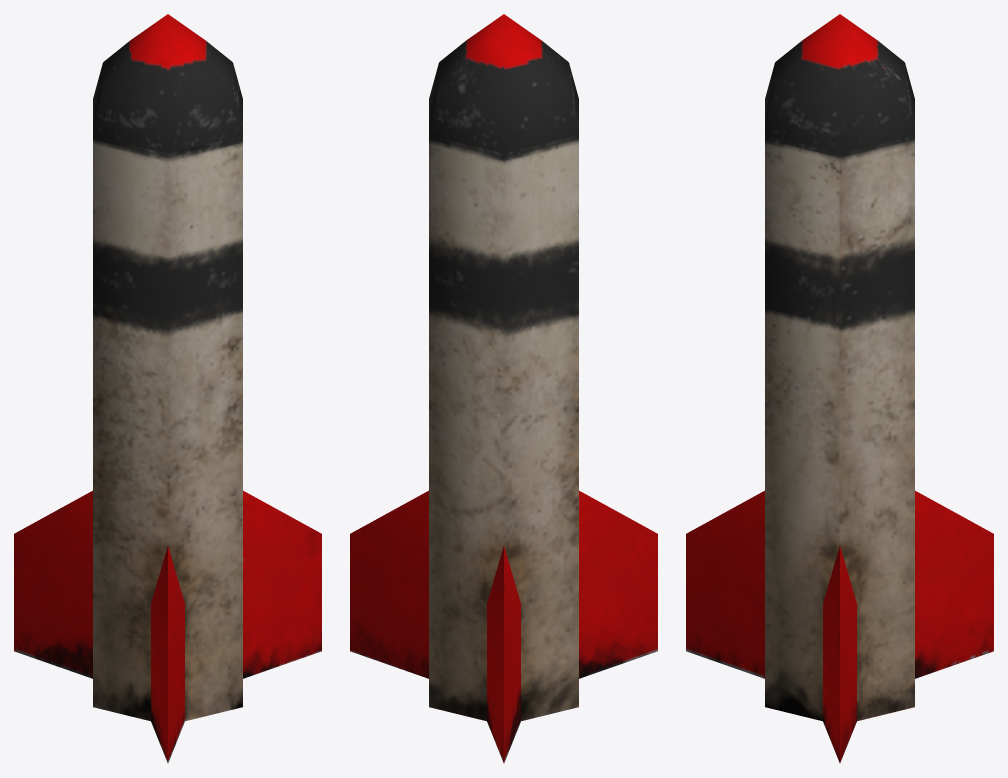
The model's file is Missile_01.glb.
3 views of the same model, side by side, from view 1: azimuth 30°, elevation 25°; view 2: azimuth 150°, elevation 25°; view 3: azimuth 270°, elevation 25° (orthographic).
Parts seen in each view (by area): view 1: Bomb_low; view 2: Bomb_low; view 3: Bomb_low.
Part boxes in pixels (x1,y1,x2,y2): Bomb_low: (14,14,321,763); Bomb_low: (350,14,657,763); Bomb_low: (686,14,993,763).
Size of the model in its own units: 0.1096 by 0.306 by 0.1265.
1 material, 1 textured.
